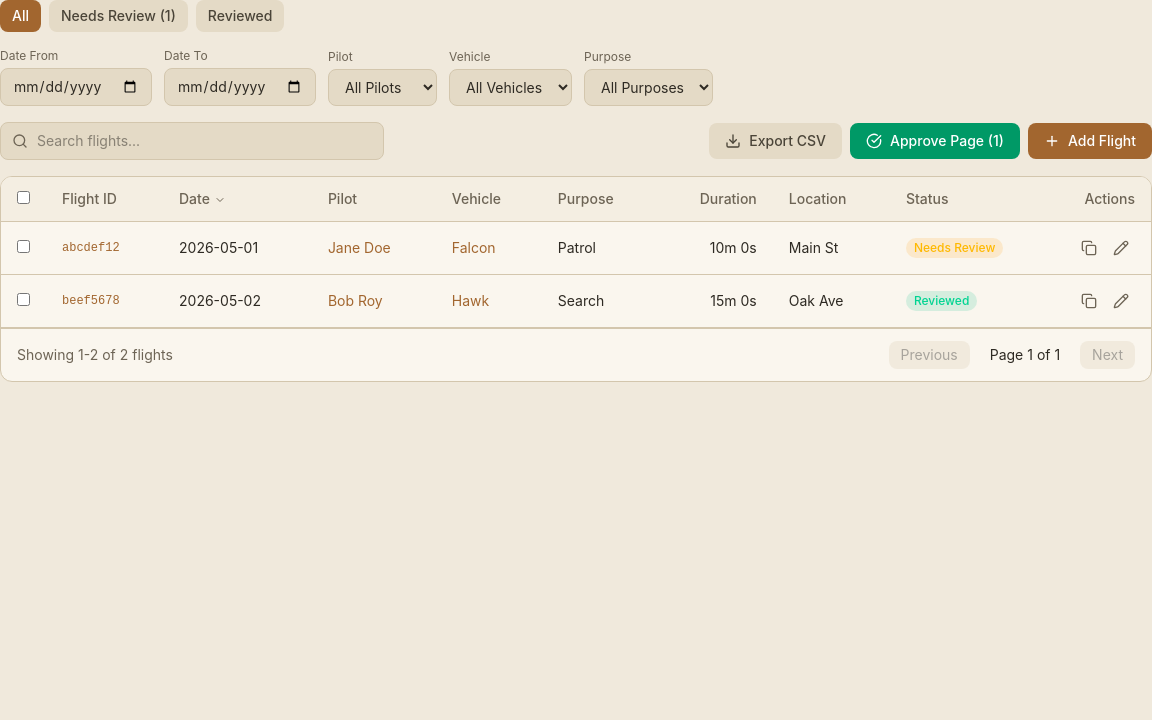
Scenario: FlightsPage › bulk pilot: the confirmation names the pilot and the ones being replaced
This screenshot has width=1152, height=720.
Click the checkbox named "Select all flights on this page". click: (24, 198)
box: [17,191,30,204]
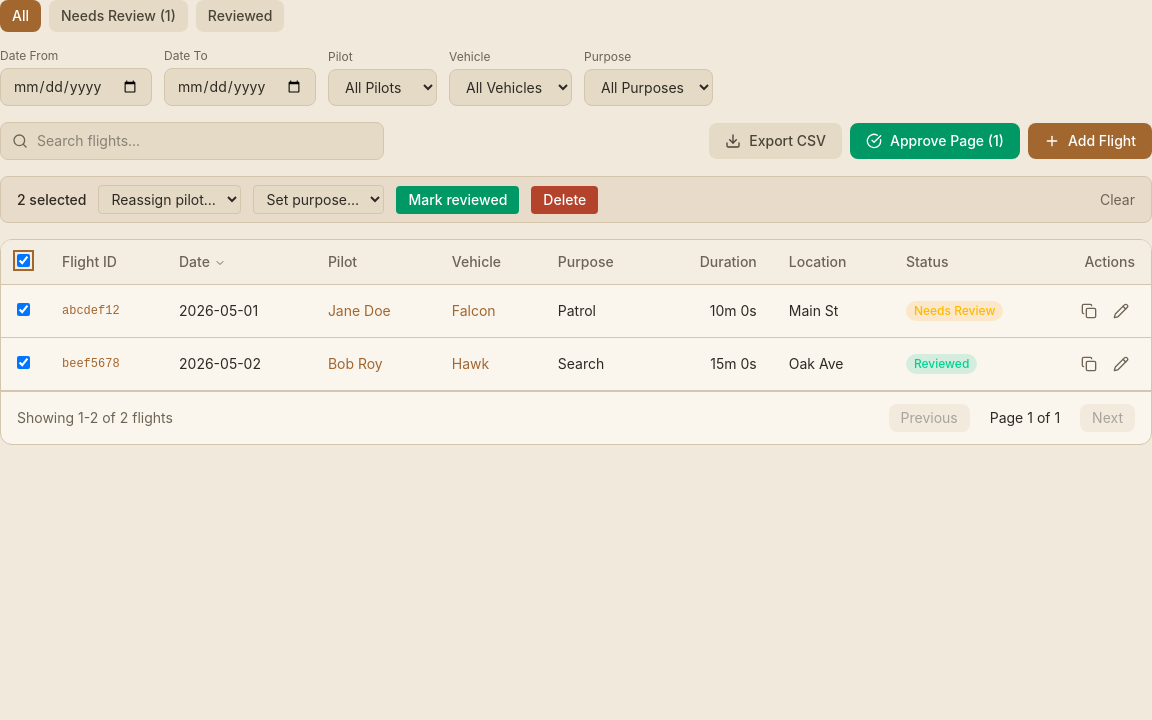
Now the text "2 selected" is shown, box [17,190,86,210]
Select "Jane Doe" in the dropdown named "Reassign pilot for selected flights". click: (170, 200)
box: [98,185,242,214]
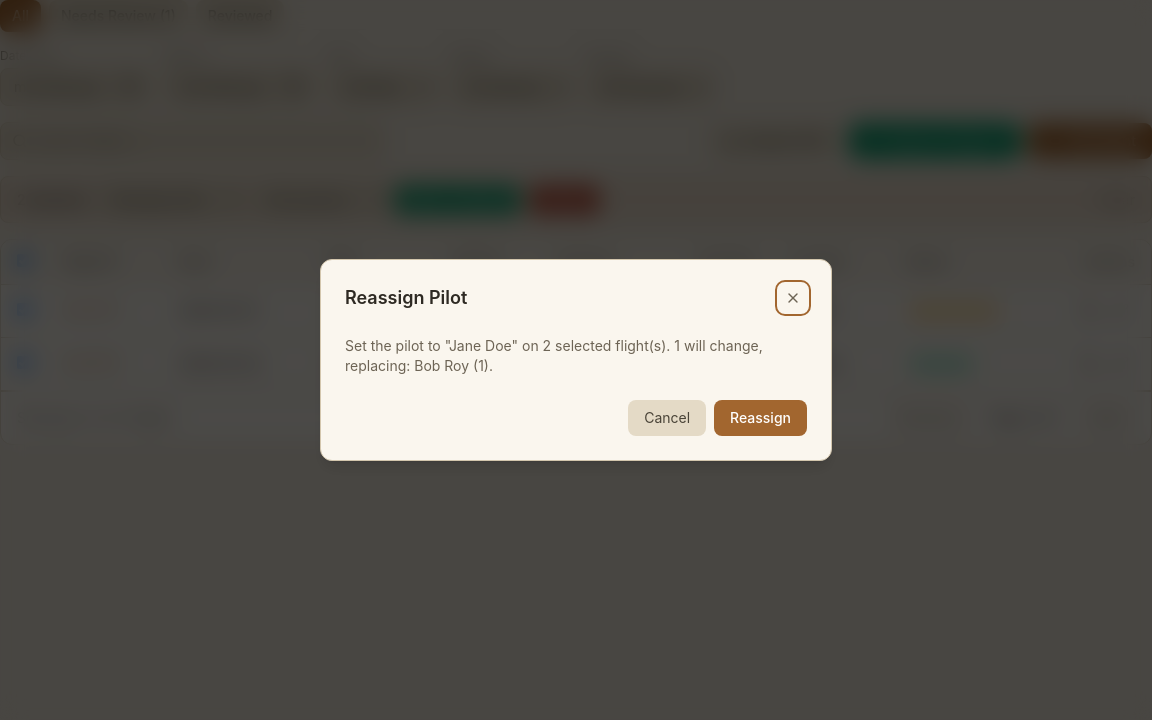
Now the text "Set the pilot to \"Jane Doe\" on 2 selected flight(s). 1 will change, replacing: Bob Roy (1)." is shown, box [345,337,763,374]
